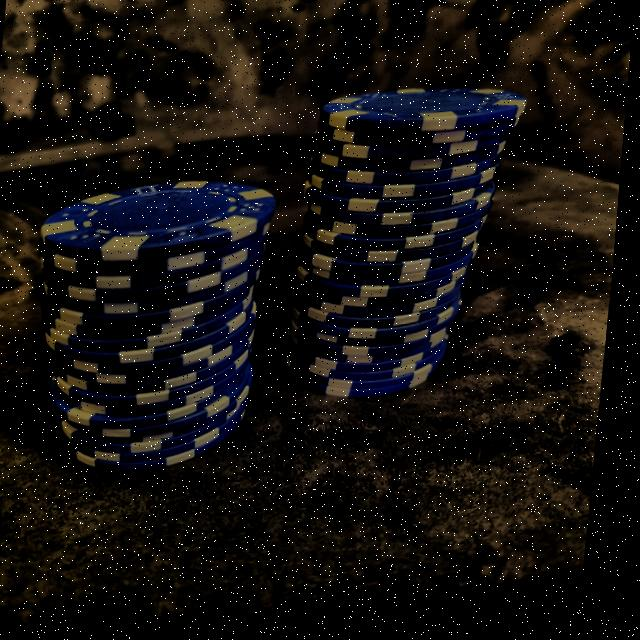Chip: (7, 158, 304, 491), (281, 70, 539, 411)
